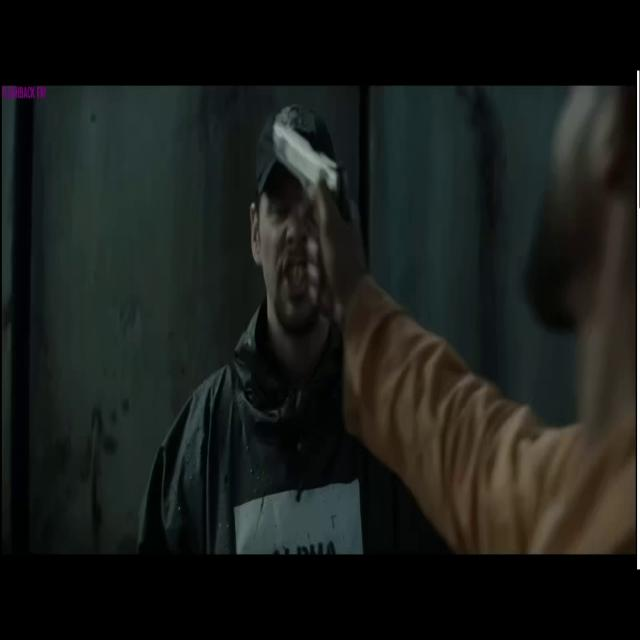weapons: (261, 98, 366, 307)
